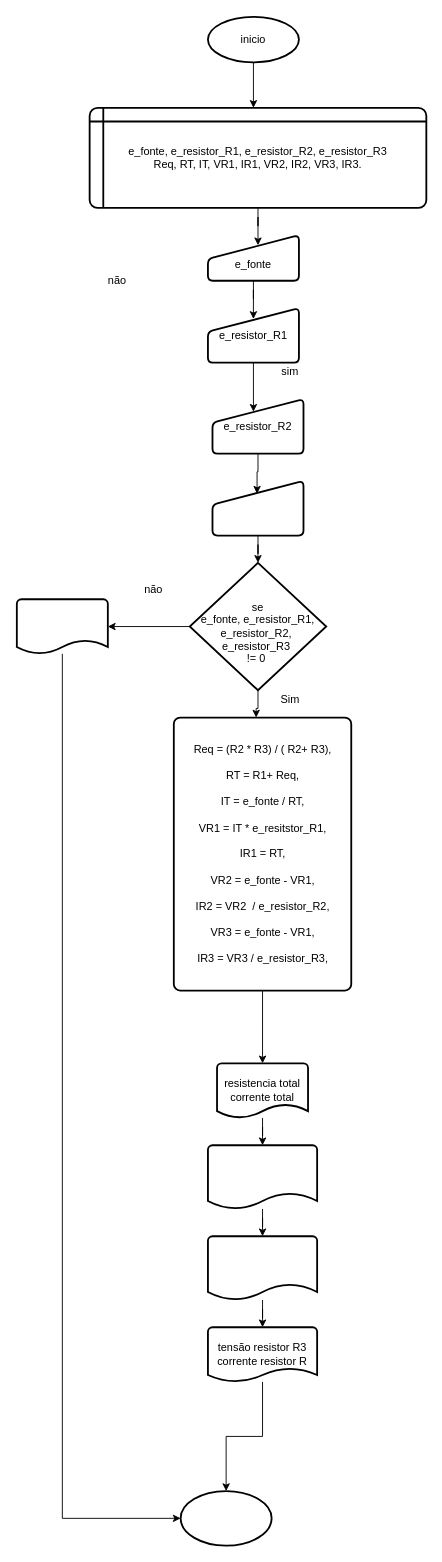
Some shapes in this 442 by 1562 pixel diagram are drawn without their labels. The box of each missing label's shape, as (x1, y1, x2, y2) in pixels:
e_resistor_R3: (211, 480, 304, 536)
entre com valores diferentes de zero: (15, 598, 108, 654)
Fim: (179, 1490, 272, 1546)
tensão resistor R1 corrente resistor R1: (207, 1144, 318, 1209)
tensão resistor R2 corrente resistor R2: (207, 1235, 318, 1300)
